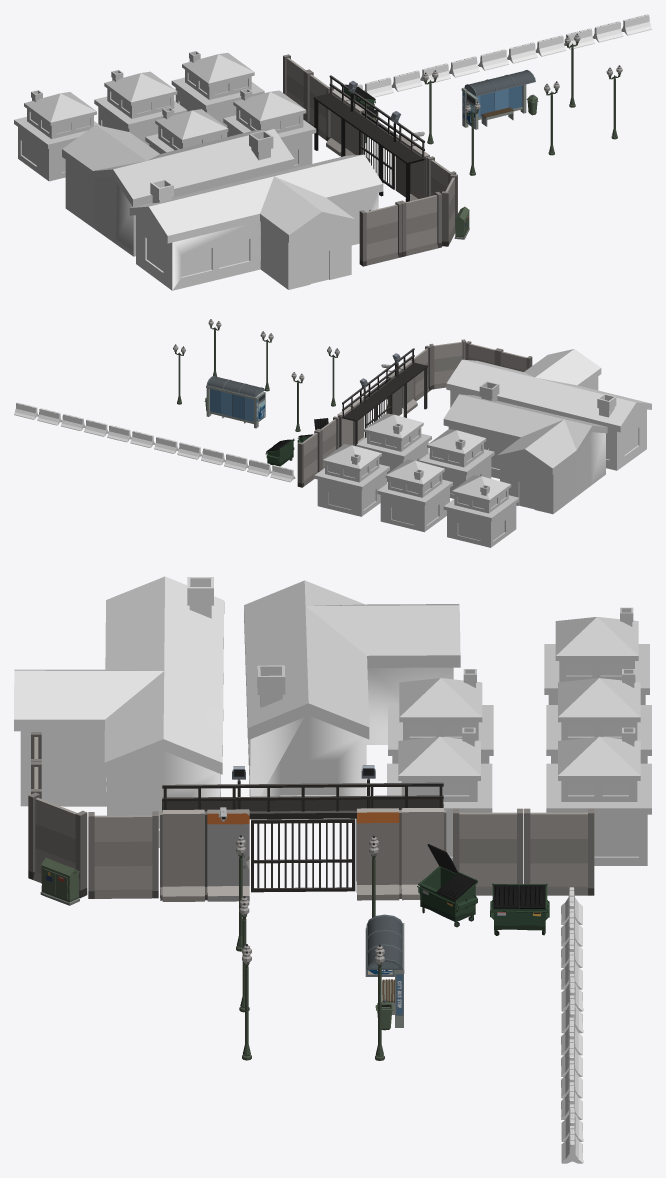
The model's file is passive3.gltf.
The picture shows the model from 3 angles, top to bottom: view 1: azimuth 30°, elevation 25°; view 2: azimuth 150°, elevation 25°; view 3: azimuth 270°, elevation 25°; orthographic projection. The views are drawn at different scales.
Visible parts, largest first — view 1: House3, House, Porte, House6, House4, House5, House8, Abribus, House7, Murbéton1, Murbéton1.001, Murbéton1.004 (+12 smaller); view 2: House, House3, House6, Porte, House4, House5, House7, House8, Abribus, Murbéton1.003, Murbéton1.005, Murbéton1.002 (+4 smaller); view 3: House3, House, Porte, House5, House8, House6, House7, House4, Murbéton1.002, Murbéton1.005, Murbéton1.004, Murbéton1.003 (+4 smaller).
Part boxes in pixels (box(x1,y1,x2,y2)): House3: box(129, 154, 383, 290); House: box(62, 125, 294, 256); Porte: box(313, 75, 429, 201); House6: box(14, 90, 100, 181); House4: box(94, 70, 187, 145); House5: box(171, 51, 264, 137); House8: box(223, 88, 316, 169); Abribus: box(461, 70, 538, 129); House7: box(145, 107, 228, 153); Murbéton1: box(359, 201, 402, 266); Murbéton1.001: box(399, 191, 441, 256); Murbéton1.004: box(305, 71, 334, 141); House: box(443, 381, 607, 514); House3: box(446, 349, 651, 470); House6: box(443, 475, 519, 547); Porte: box(337, 348, 427, 447); House4: box(377, 459, 452, 532); House5: box(314, 444, 389, 516); House7: box(419, 429, 494, 498); House8: box(356, 413, 431, 482); Abribus: box(204, 375, 265, 428); Murbéton1.003: box(429, 339, 466, 389); Murbéton1.005: box(297, 430, 320, 487); Murbéton1.002: box(410, 345, 431, 401); House3: box(14, 576, 224, 847); House: box(244, 580, 460, 796); Porte: box(160, 765, 446, 901); House5: box(546, 727, 651, 865); House8: box(387, 727, 492, 861); House6: box(544, 607, 649, 704); House7: box(388, 669, 493, 763); House4: box(546, 669, 651, 763); Murbéton1.002: box(88, 811, 158, 898); Murbéton1.005: box(524, 808, 594, 895); Murbéton1.004: box(453, 808, 523, 895); Murbéton1.003: box(28, 792, 87, 898).
Bounding box in the file's own units: 105 × 13.11 × 59.31.
7 materials, 4 textured.
